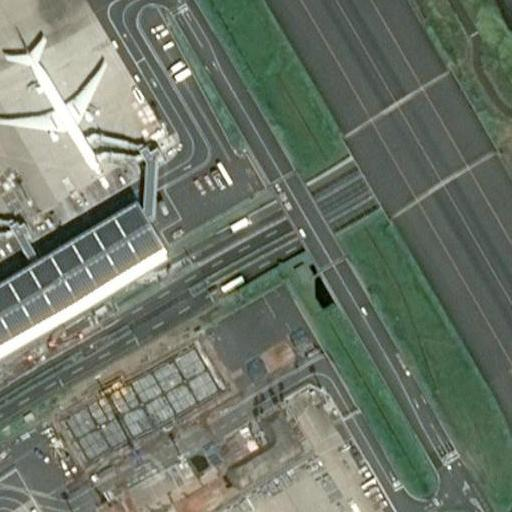Aircraft: (0, 33, 112, 184)
